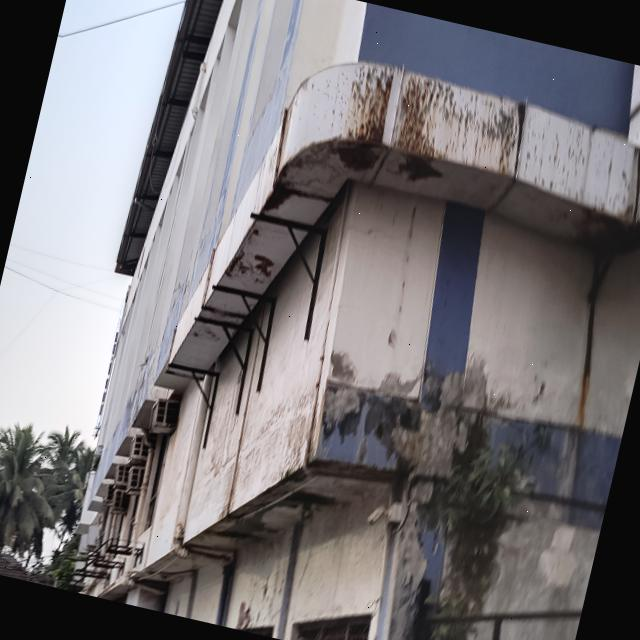stain_mould: (157, 47, 640, 390), (297, 359, 606, 640), (324, 466, 389, 640)
